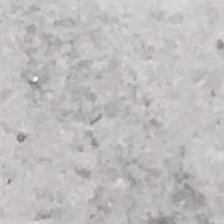Non_Crack: (16, 7, 206, 202)
